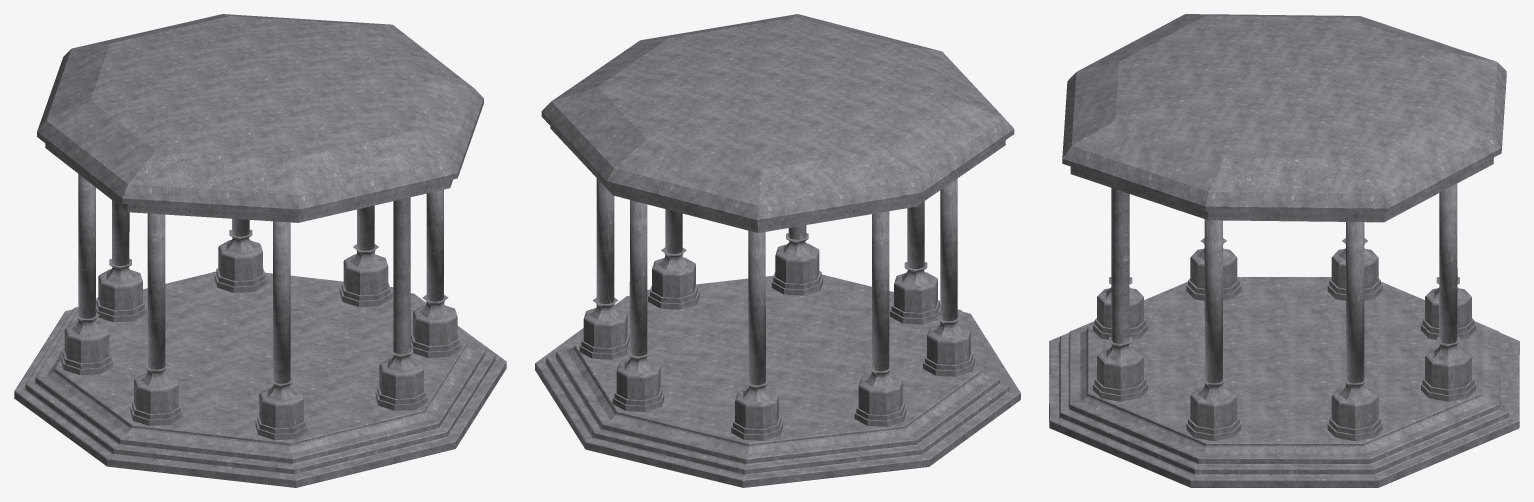
Rendered from zibo.gltf.
The picture shows the model from 3 angles, left to right: view 1: azimuth 30°, elevation 25°; view 2: azimuth 150°, elevation 25°; view 3: azimuth 270°, elevation 25°; orthographic projection. The views are drawn at different scales.
Parts seen in each view (by area): view 1: Top.001, Base.001, Cylinder.050, Cylinder.062, Cylinder.063, Cylinder.051, Cylinder.055, Cylinder.052, Cylinder.064, Cylinder.061, Cylinder.049, Cylinder.067 (+5 smaller); view 2: Top.001, Base.001, Cylinder.051, Cylinder.068, Cylinder.069, Cylinder.050, Cylinder.056, Cylinder.052, Cylinder.064, Cylinder.067, Cylinder.058, Cylinder.049 (+5 smaller); view 3: Top.001, Base.001, Cylinder.057, Cylinder.056, Cylinder.068, Cylinder.063, Cylinder.055, Cylinder.058, Cylinder.064, Cylinder.067, Cylinder.049, Cylinder.052 (+2 smaller).
Part boxes in pixels (left/top/right/bottom): Top.001: left=37, top=14, right=483, bottom=222; Base.001: left=14, top=271, right=506, bottom=487; Cylinder.050: left=147, top=213, right=165, bottom=369; Cylinder.062: left=273, top=221, right=290, bottom=383; Cylinder.063: left=393, top=197, right=410, bottom=354; Cylinder.051: left=78, top=174, right=95, bottom=318; Cylinder.055: left=339, top=254, right=392, bottom=307; Cylinder.052: left=61, top=322, right=113, bottom=375; Cylinder.064: left=375, top=358, right=427, bottom=410; Cylinder.061: left=255, top=387, right=307, bottom=440; Cylinder.049: left=130, top=373, right=182, bottom=425; Cylinder.067: left=214, top=240, right=266, bottom=292; Top.001: left=541, top=14, right=1014, bottom=232; Base.001: left=535, top=274, right=1020, bottom=487; Cylinder.051: left=871, top=211, right=889, bottom=371; Cylinder.068: left=629, top=200, right=647, bottom=356; Cylinder.069: left=748, top=230, right=765, bottom=385; Cylinder.050: left=940, top=178, right=957, bottom=321; Cylinder.056: left=596, top=178, right=614, bottom=304; Cylinder.052: left=854, top=374, right=906, bottom=426; Cylinder.064: left=771, top=243, right=823, bottom=295; Cylinder.067: left=612, top=359, right=664, bottom=411; Cylinder.058: left=648, top=257, right=699, bottom=309; Cylinder.049: left=923, top=324, right=974, bottom=376; Top.001: left=1062, top=14, right=1506, bottom=222; Base.001: left=1049, top=277, right=1519, bottom=487; Cylinder.057: left=1204, top=219, right=1222, bottom=383; Cylinder.056: left=1346, top=222, right=1364, bottom=383; Cylinder.068: left=1439, top=184, right=1457, bottom=343; Cylinder.063: left=1111, top=188, right=1129, bottom=343; Cylinder.055: left=1327, top=387, right=1382, bottom=440; Cylinder.058: left=1186, top=387, right=1241, bottom=440; Cylinder.064: left=1093, top=348, right=1147, bottom=401; Cylinder.067: left=1421, top=348, right=1475, bottom=401; Cylinder.049: left=1186, top=248, right=1241, bottom=300; Cylinder.052: left=1327, top=248, right=1382, bottom=300.
Bounding box in the file's own units: 6 × 4.39 × 6.
